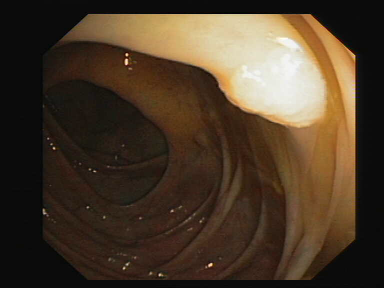polyp: (192, 45, 345, 143)
